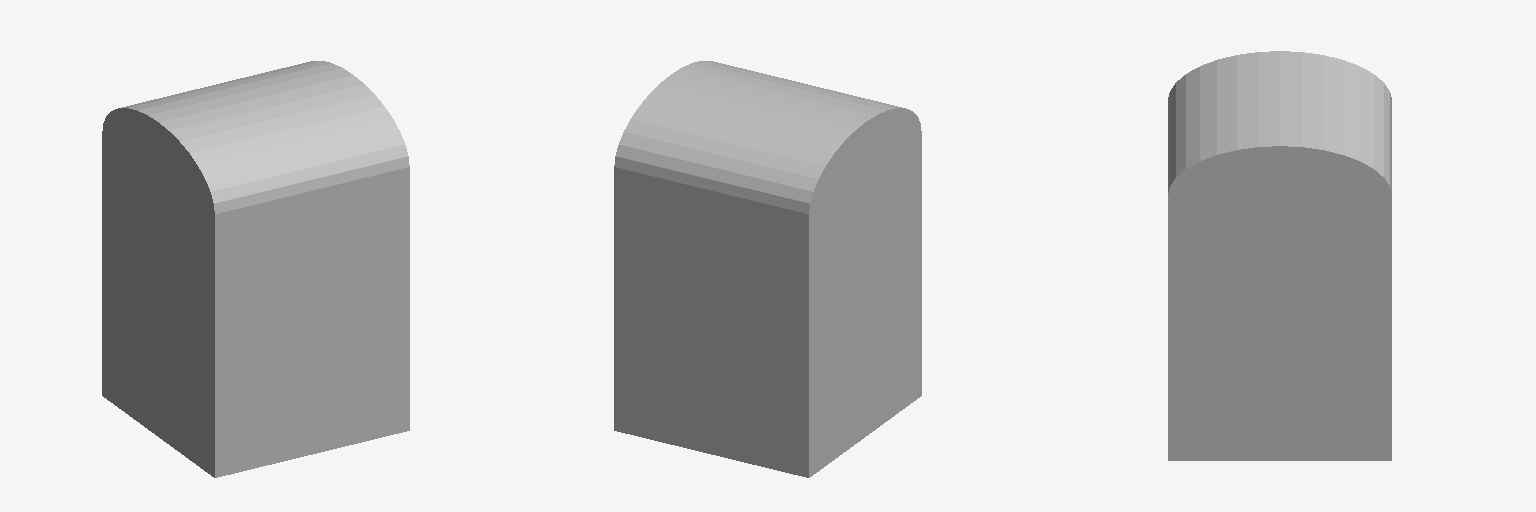
Rendered from body_l_distal_pinvround_collision.obj.
3 views of the same model, side by side, from view 1: azimuth 30°, elevation 25°; view 2: azimuth 150°, elevation 25°; view 3: azimuth 270°, elevation 25° (orthographic).
Visible parts, largest first — view 1: body_l_distal_pinvround_collision_Cube.003; view 2: body_l_distal_pinvround_collision_Cube.003; view 3: body_l_distal_pinvround_collision_Cube.003.
Boxes of the visible parts, x1,y1,x2,y2 form: body_l_distal_pinvround_collision_Cube.003: [102, 61, 409, 477]; body_l_distal_pinvround_collision_Cube.003: [614, 61, 921, 477]; body_l_distal_pinvround_collision_Cube.003: [1168, 51, 1391, 460].
Size of the model in its own units: 0.02 by 0.0309 by 0.02.